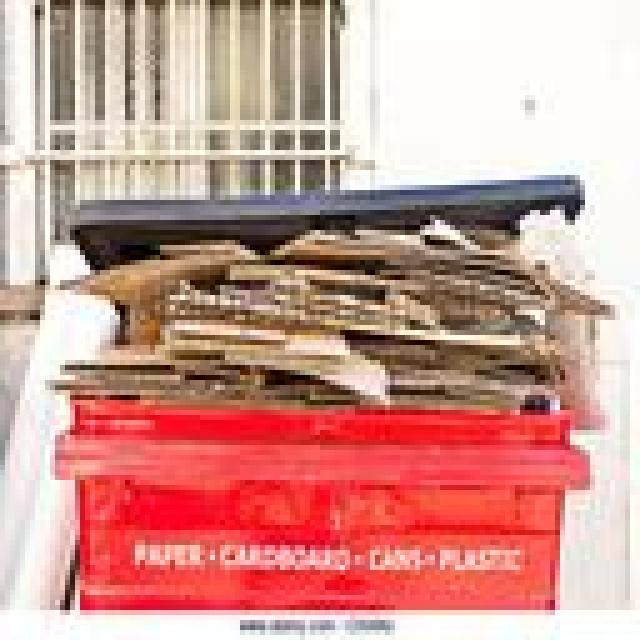cardboard: (275, 215, 610, 310), (515, 205, 605, 425), (160, 255, 425, 315), (55, 235, 250, 305), (350, 320, 555, 365), (45, 335, 250, 380), (225, 335, 385, 390), (160, 315, 345, 355), (385, 360, 560, 400), (155, 310, 275, 340), (115, 305, 150, 335)
